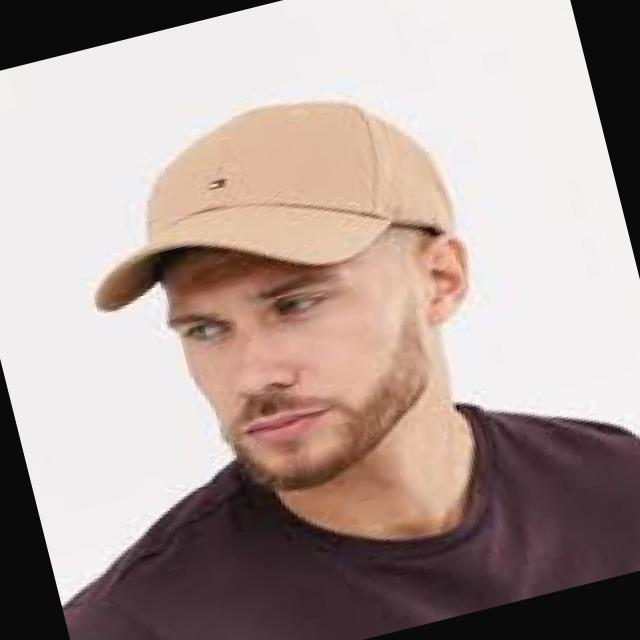cap: (24, 46, 492, 364)
